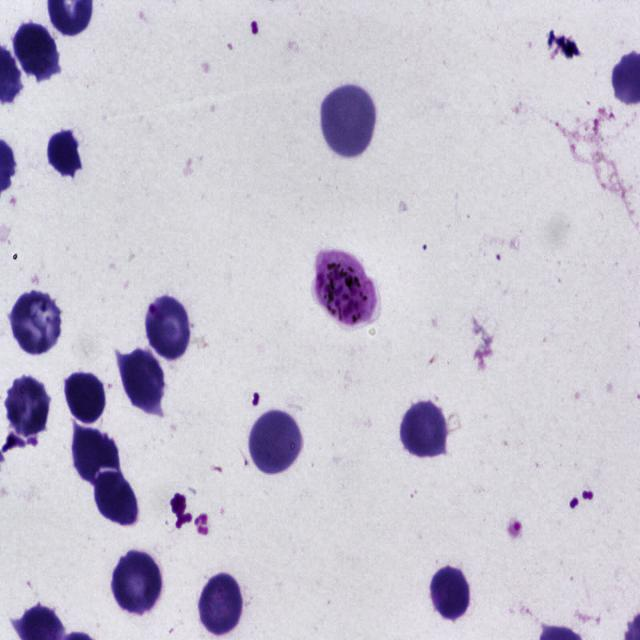red blood cell: (321, 86, 375, 159), (10, 288, 63, 358), (113, 549, 165, 616), (250, 410, 302, 475), (72, 424, 122, 484), (5, 373, 51, 437), (145, 296, 190, 361), (198, 572, 244, 635), (120, 348, 165, 412), (400, 402, 448, 459), (15, 22, 60, 82), (93, 469, 139, 526), (430, 564, 471, 620), (65, 370, 107, 424), (46, 127, 83, 179)
schizont: (314, 250, 382, 327)
